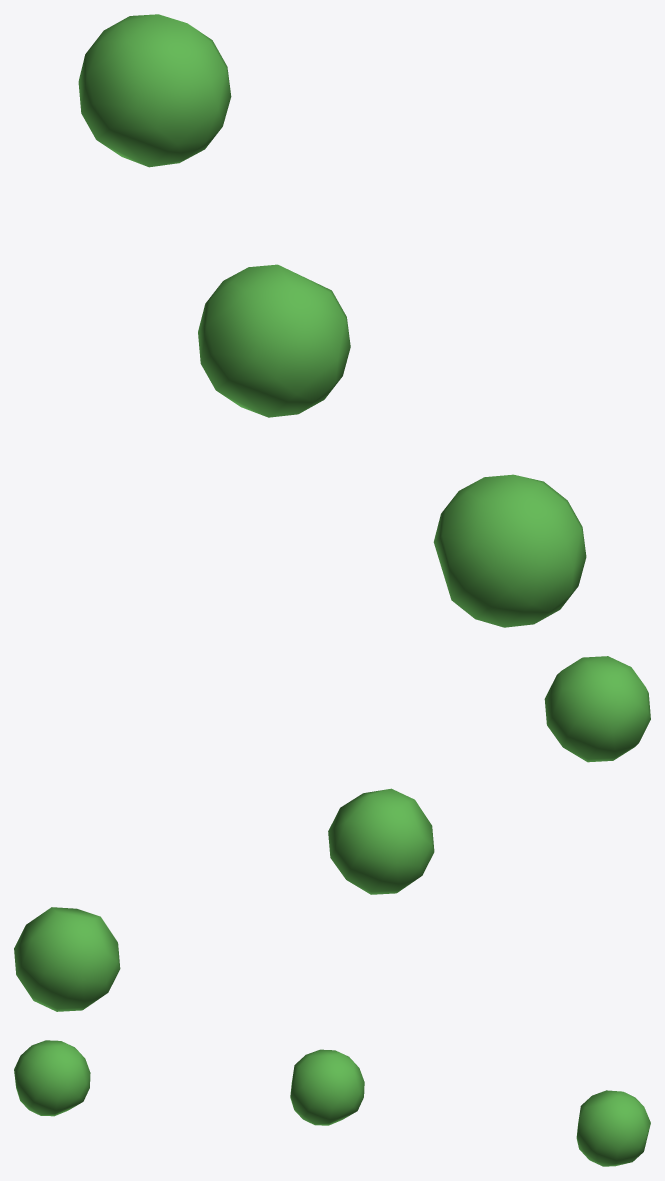
Rendered from linfatico-submandibular-nodes-l.glb.
The picture shows the model from 3 angles, top to bottom: view 1: azimuth 30°, elevation 25°; view 2: azimuth 150°, elevation 25°; view 3: azimuth 270°, elevation 25°; orthographic projection. The views are drawn at different scales.
Visible parts, largest first — view 1: Submandibular nodes.l; view 2: Submandibular nodes.l; view 3: Submandibular nodes.l.
Part boxes in pixels (left/top/right/bottom): Submandibular nodes.l: left=78, top=14, right=586, bottom=627; Submandibular nodes.l: left=14, top=656, right=650, bottom=1011; Submandibular nodes.l: left=14, top=1040, right=650, bottom=1166.
Size of the model in its own units: 0.0065 by 0.00255 by 0.0212.
